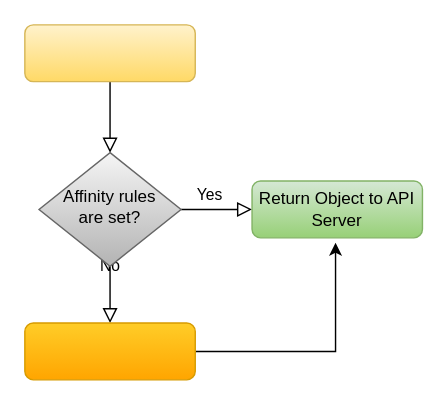
The diagram is 447 pixels wide and 405 high, and some of its shapes have lost their labels. Here are the shapes that lost their labels. From the top down, the centre of each, then its label:
pixel 109 52: Pod create request received
pixel 109 351: Inject Affinity Rules to Pod Spec
